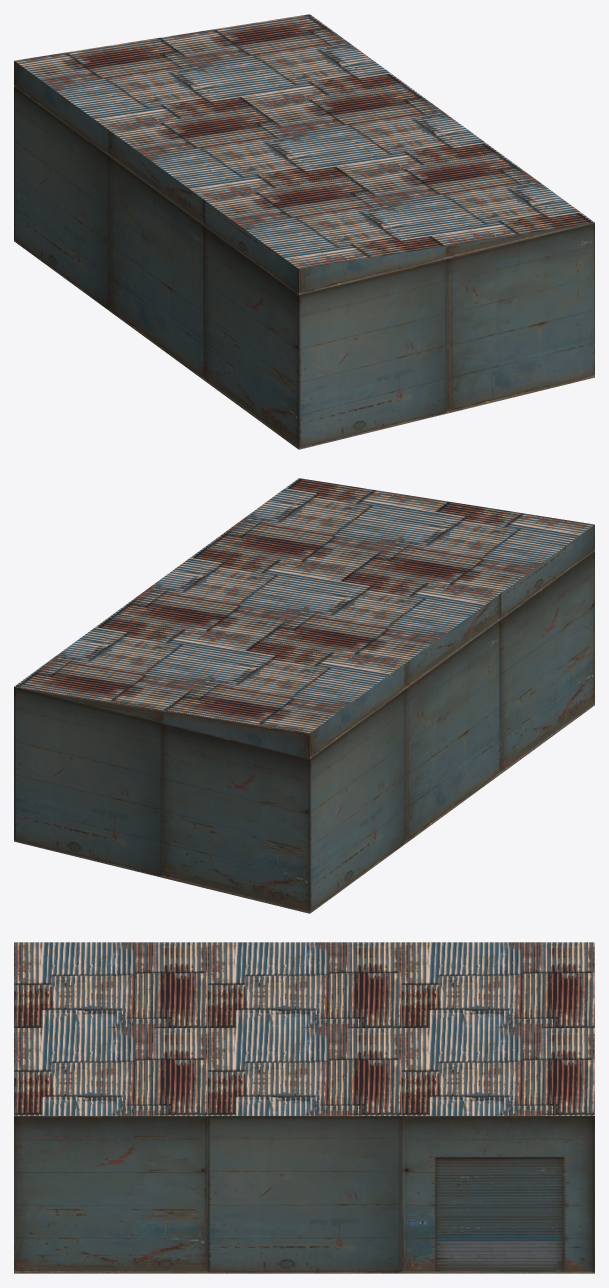
The model's file is Building_E.glb.
3 renders of one model, top to bottom at view 1: azimuth 30°, elevation 25°; view 2: azimuth 150°, elevation 25°; view 3: azimuth 270°, elevation 25°, orthographic.
Visible parts, largest first — view 1: Building_E; view 2: Building_E; view 3: Building_E.
Part boxes in pixels (x1,y1,x2,y2): Building_E: (14, 14, 594, 449); Building_E: (14, 478, 594, 913); Building_E: (14, 942, 594, 1273).
Bounding box in the file's own units: 12 × 7 × 20.
Materials: 1 (1 with a texture image).
